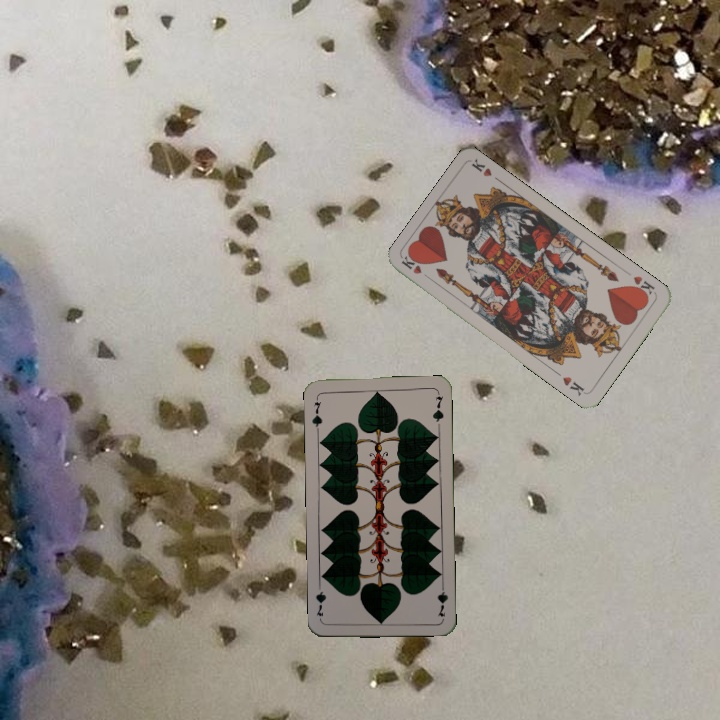G7: (433, 579, 450, 619), (308, 393, 325, 433)
HK: (398, 252, 435, 284), (627, 272, 658, 300)
